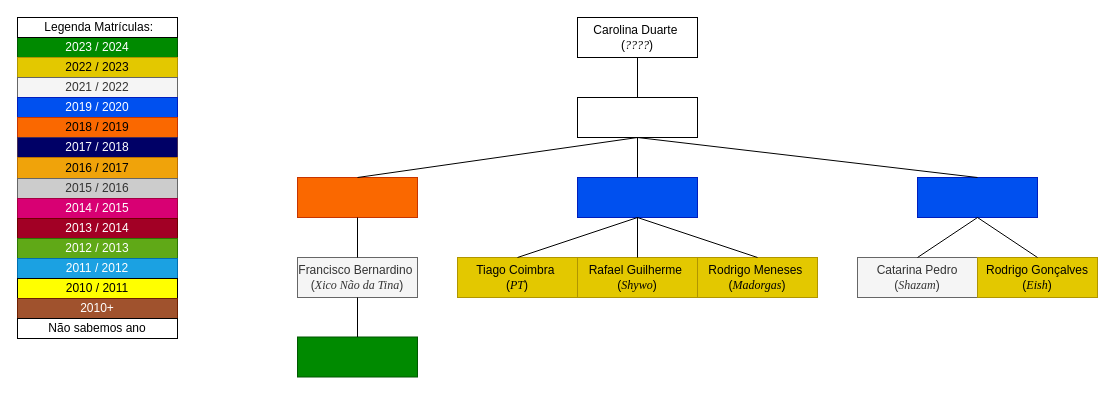
The diagram is 1115 pixels wide and 395 high, and some of its shapes have lost their labels. Here are the shapes that lost their labels. From the top down, the centre of each, then its label:
At point (637, 117): "Pavlo Kyyanchenko ( ???? )".
At point (357, 197): "Beatriz Santos ( Pesos & CO )".
At point (637, 197): "Gonçalo Eugênio ( Captião G )".
At point (977, 197): "Diogo Pedroso ( Calhau )".
At point (357, 356): "João Silva ( ???? )".
